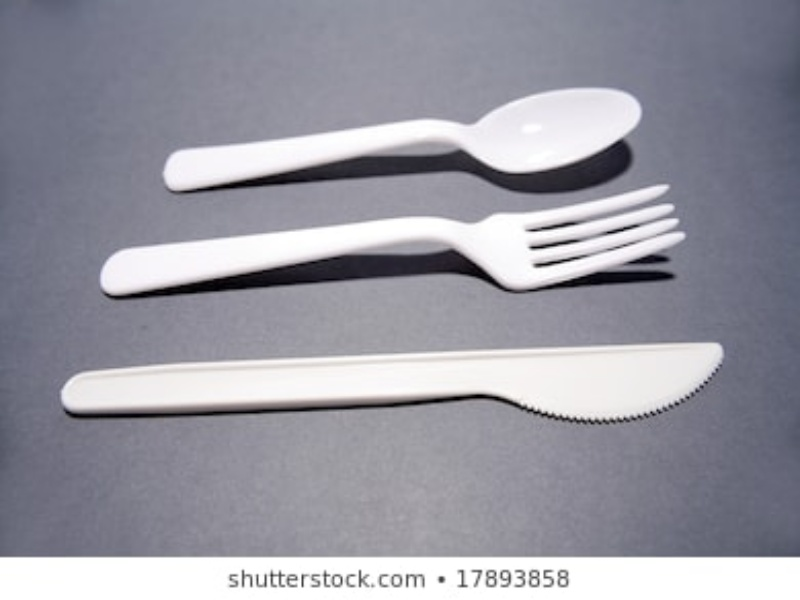plastic-silverware: (96, 180, 700, 299), (59, 339, 728, 432), (160, 84, 648, 196)
